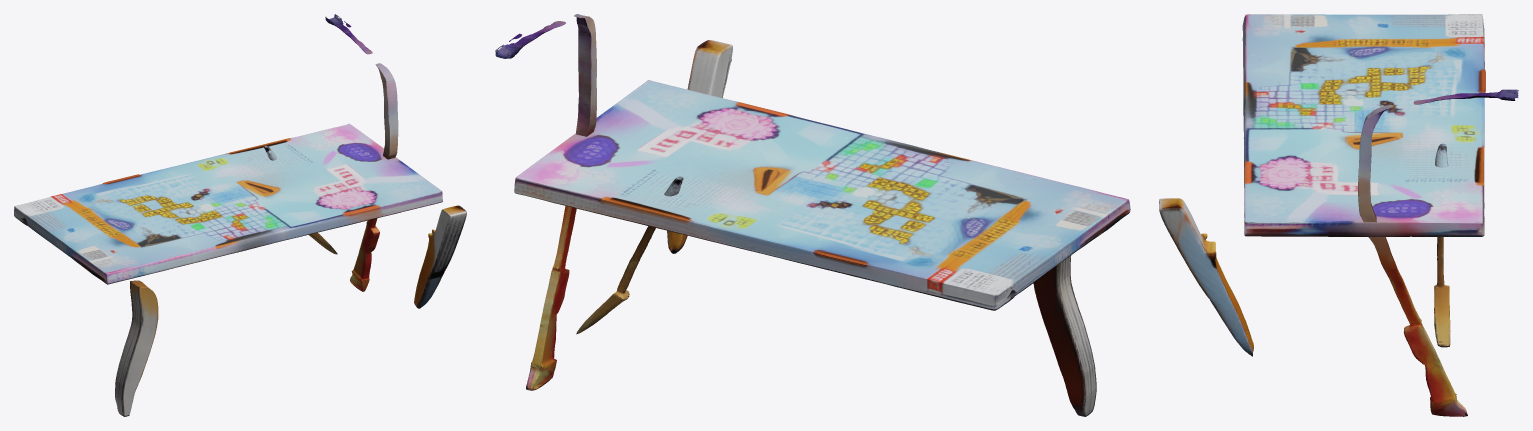
Rendered from prediction.glb.
The picture shows the model from 3 angles, left to right: view 1: azimuth 30°, elevation 25°; view 2: azimuth 150°, elevation 25°; view 3: azimuth 270°, elevation 25°; orthographic projection. The views are drawn at different scales.
Visible parts, largest first — view 1: 0_geometry_0, 1_geometry_0, 3_geometry_0, 2_geometry_0; view 2: 0_geometry_0, 3_geometry_0, 1_geometry_0, 2_geometry_0, 4_geometry_0; view 3: 0_geometry_0, 3_geometry_0, 2_geometry_0, 4_geometry_0.
Part boxes in pixels (left/top/right/bottom): 0_geometry_0: left=14, top=124, right=442, bottom=284; 1_geometry_0: left=115, top=280, right=158, bottom=416; 3_geometry_0: left=325, top=14, right=398, bottom=291; 2_geometry_0: left=414, top=205, right=466, bottom=308; 0_geometry_0: left=514, top=80, right=1130, bottom=310; 3_geometry_0: left=495, top=14, right=596, bottom=390; 1_geometry_0: left=1033, top=255, right=1096, bottom=416; 2_geometry_0: left=667, top=40, right=732, bottom=253; 4_geometry_0: left=576, top=176, right=683, bottom=334; 0_geometry_0: left=1242, top=14, right=1485, bottom=236; 3_geometry_0: left=1358, top=89, right=1518, bottom=416; 2_geometry_0: left=1159, top=198, right=1253, bottom=356; 4_geometry_0: left=1434, top=143, right=1450, bottom=347.
Bounding box in the file's own units: 1 × 0.7183 × 0.7249.
Materials: 5 (5 with a texture image).
